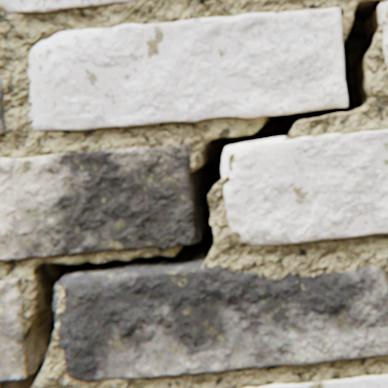brick: (56, 260, 387, 380), (28, 8, 347, 130), (0, 144, 196, 259), (222, 129, 387, 244), (0, 277, 29, 379), (243, 374, 387, 387), (0, 0, 137, 12), (378, 3, 387, 68), (0, 75, 6, 134), (54, 291, 59, 323)
crack: (0, 0, 387, 387)
